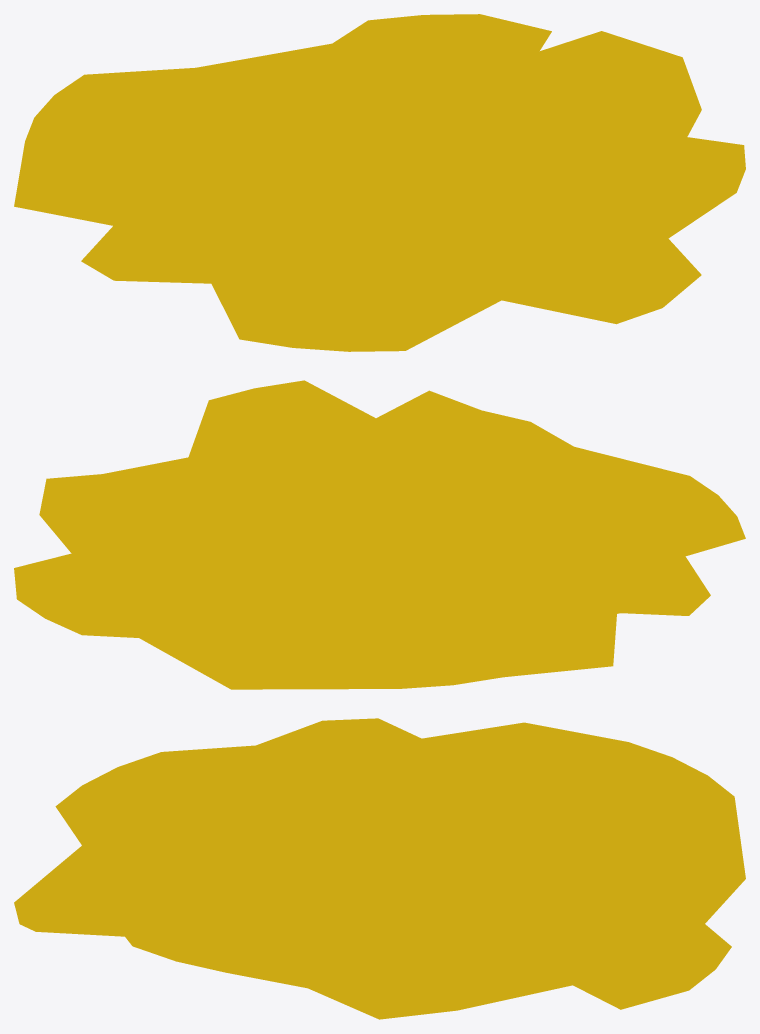
File: macchia_maio.fbx
The picture shows the model from 3 angles, top to bottom: view 1: azimuth 30°, elevation 25°; view 2: azimuth 150°, elevation 25°; view 3: azimuth 270°, elevation 25°; orthographic projection. The views are drawn at different scales.
Visible parts, largest first — view 1: macchia_maio; view 2: macchia_maio; view 3: macchia_maio.
Part boxes in pixels (x1=…): macchia_maio: x1=14, y1=14, x2=745, y2=351; macchia_maio: x1=14, y1=380, x2=745, y2=689; macchia_maio: x1=14, y1=718, x2=745, y2=1019.
Size of the model in its own units: 256 by 17.12 by 255.
